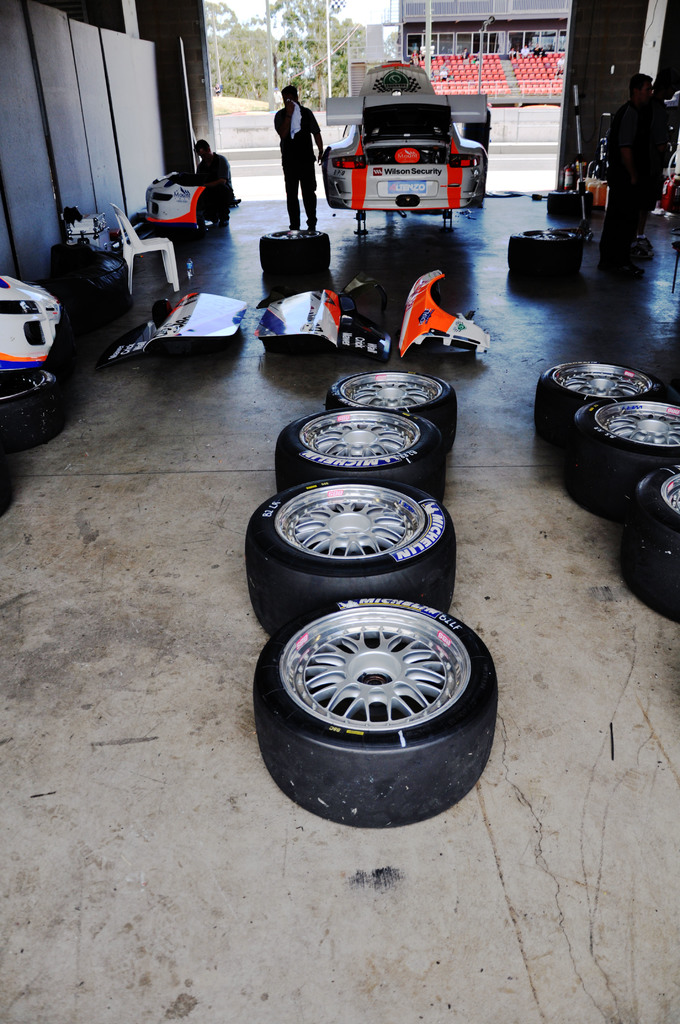Car: (310, 55, 499, 215)
